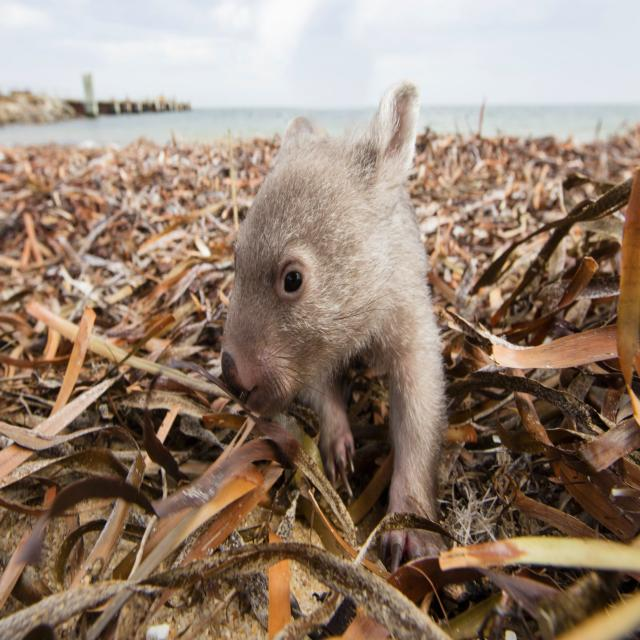wombats: (222, 82, 445, 521)
